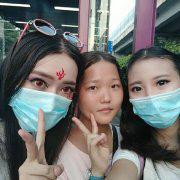NONE: (81, 77, 123, 122)
OK: (16, 69, 80, 133), (127, 74, 180, 127)
